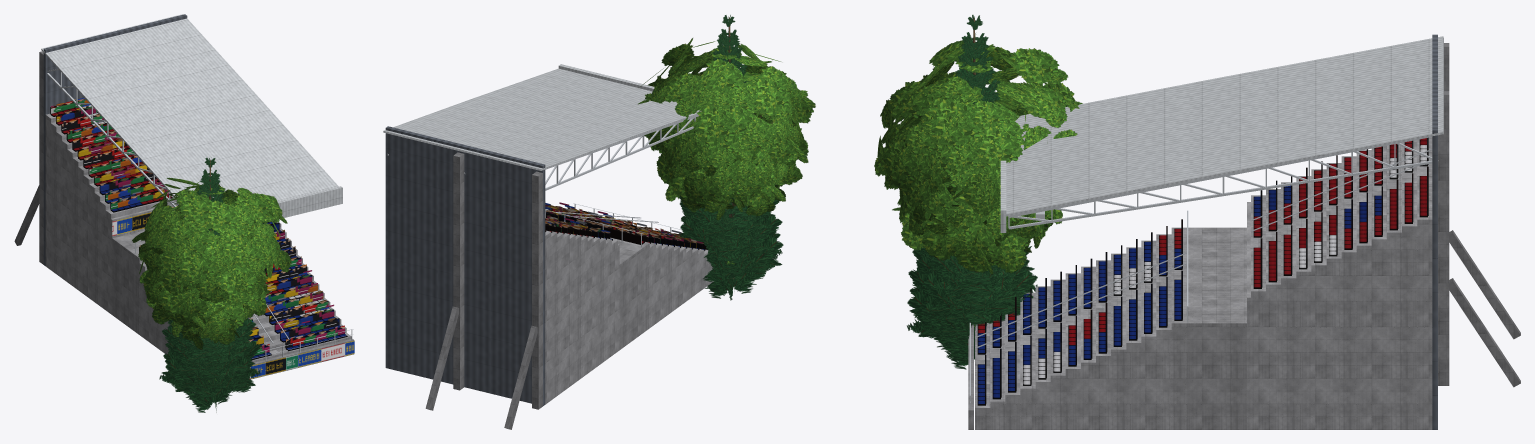
Rendered from scenery.glb.
The picture shows the model from 3 angles, left to right: view 1: azimuth 30°, elevation 25°; view 2: azimuth 150°, elevation 25°; view 3: azimuth 270°, elevation 25°; orthographic projection. The views are drawn at different scales.
Parts seen in each view (by area): view 1: grandstand_module, tree_broad_2_lod, tree_broad_2, tree_conifer_1_lod, tree_broad_1_lod, tree_broad_3, tree_conifer_1, tree_broad_1, tree_conifer_2_lod, tree_broad_3_lod, tree_conifer_2; view 2: grandstand_module, tree_broad_2_lod, tree_broad_2, tree_conifer_1_lod, tree_broad_1, tree_broad_1_lod, tree_conifer_1, tree_broad_3, tree_conifer_2_lod, tree_broad_3_lod, tree_conifer_2; view 3: grandstand_module, tree_broad_2_lod, tree_broad_2, tree_conifer_1_lod, tree_broad_3_lod, tree_conifer_1, tree_broad_1_lod, tree_broad_1, tree_conifer_2_lod, tree_conifer_2, tree_broad_3.
Boxes of the visible parts, <box> form: grandstand_module: <box>14,14,354,379</box>; tree_broad_2_lod: <box>139,177,291,301</box>; tree_broad_2: <box>132,184,287,303</box>; tree_conifer_1_lod: <box>159,157,261,412</box>; tree_broad_1_lod: <box>143,219,269,337</box>; tree_broad_3: <box>151,279,261,349</box>; tree_conifer_1: <box>163,158,252,407</box>; tree_broad_1: <box>138,219,270,339</box>; tree_conifer_2_lod: <box>165,228,253,406</box>; tree_broad_3_lod: <box>145,270,267,335</box>; tree_conifer_2: <box>171,230,246,401</box>; grandstand_module: <box>383,64,713,429</box>; tree_broad_2_lod: <box>640,38,815,166</box>; tree_broad_2: <box>638,41,807,278</box>; tree_conifer_1_lod: <box>677,15,783,300</box>; tree_broad_1: <box>658,108,802,217</box>; tree_broad_1_lod: <box>656,106,808,208</box>; tree_conifer_1: <box>681,16,780,292</box>; tree_broad_3: <box>661,136,797,220</box>; tree_conifer_2_lod: <box>684,203,777,292</box>; tree_broad_3_lod: <box>665,161,780,217</box>; tree_conifer_2: <box>706,214,768,287</box>; grandstand_module: <box>968,34,1520,429</box>; tree_broad_2_lod: <box>874,40,1075,207</box>; tree_broad_2: <box>877,60,1082,225</box>; tree_conifer_1_lod: <box>907,15,1037,369</box>; tree_broad_3_lod: <box>898,189,1062,274</box>; tree_conifer_1: <box>909,16,1037,360</box>; tree_broad_1_lod: <box>876,95,1055,250</box>; tree_broad_1: <box>884,91,1037,246</box>; tree_conifer_2_lod: <box>916,86,1030,361</box>; tree_conifer_2: <box>927,259,1026,353</box>; tree_broad_3: <box>892,197,1053,260</box>.
Bounding box in the file's own units: 17.95 × 21.3 × 35.03.
Materials: 11 (9 with a texture image).
